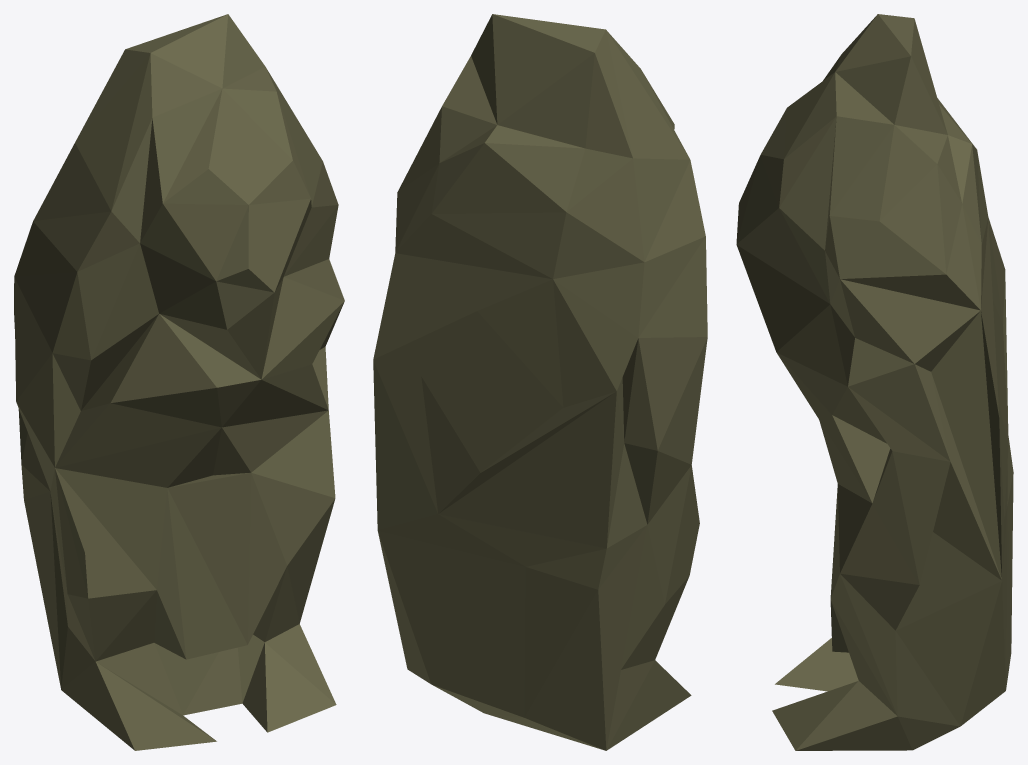
Rendered from aztec-effigy.lod2.glb.
The picture shows the model from 3 angles, left to right: view 1: azimuth 30°, elevation 25°; view 2: azimuth 150°, elevation 25°; view 3: azimuth 270°, elevation 25°; orthographic projection. The views are drawn at different scales.
Parts seen in each view (by area): view 1: Object_4; view 2: Object_4; view 3: Object_4.
Boxes of the visible parts, bbox=[...] form: Object_4: bbox=[14, 14, 344, 750]; Object_4: bbox=[373, 14, 707, 750]; Object_4: bbox=[736, 14, 1013, 750].
Size of the model in its own units: 0.5192 by 1.17 by 0.4356.
